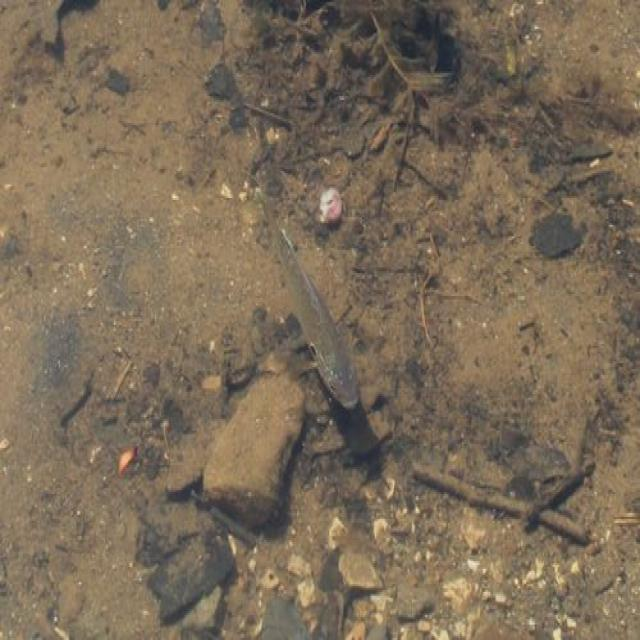Gunes Levregi: (250, 176, 368, 424)
